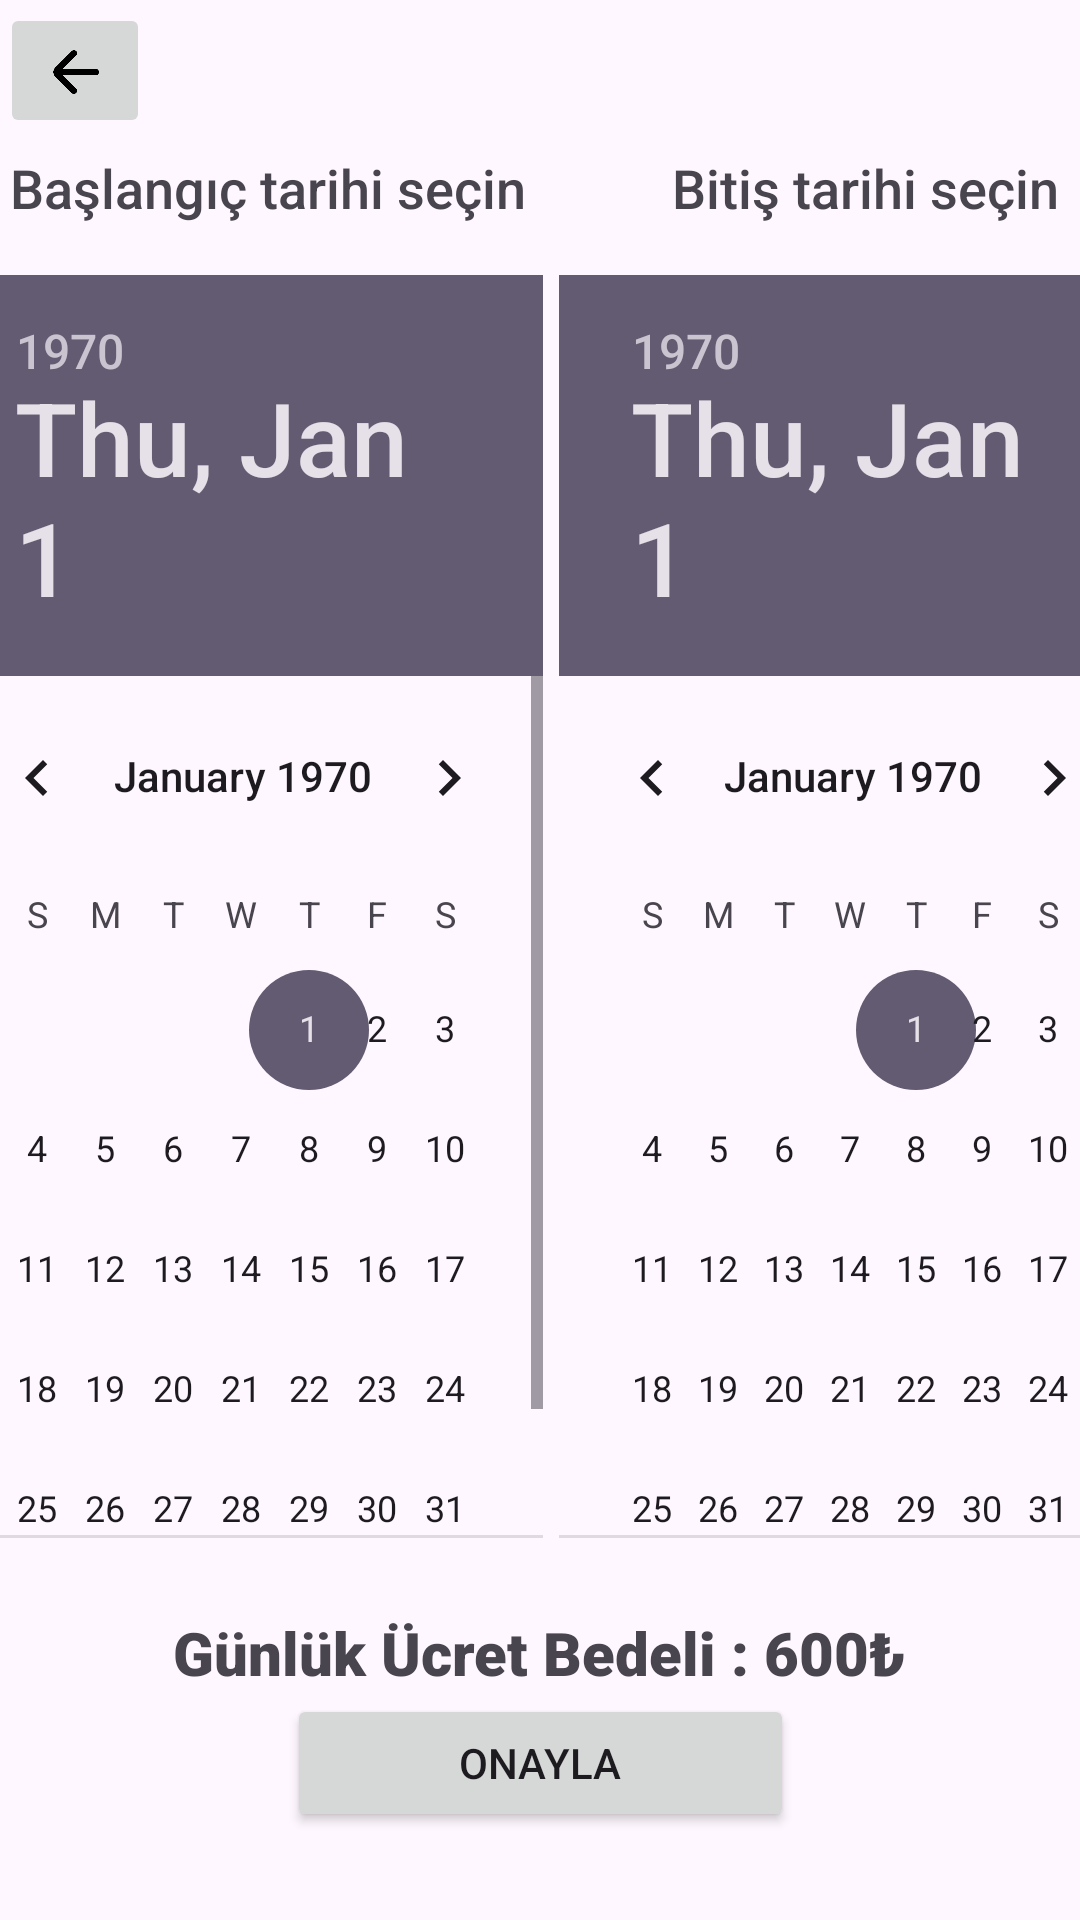

Where icons sit on this 1080*1920 app screen, as (x1, y1, x2, y2):
arrow: (12, 21, 138, 120)
